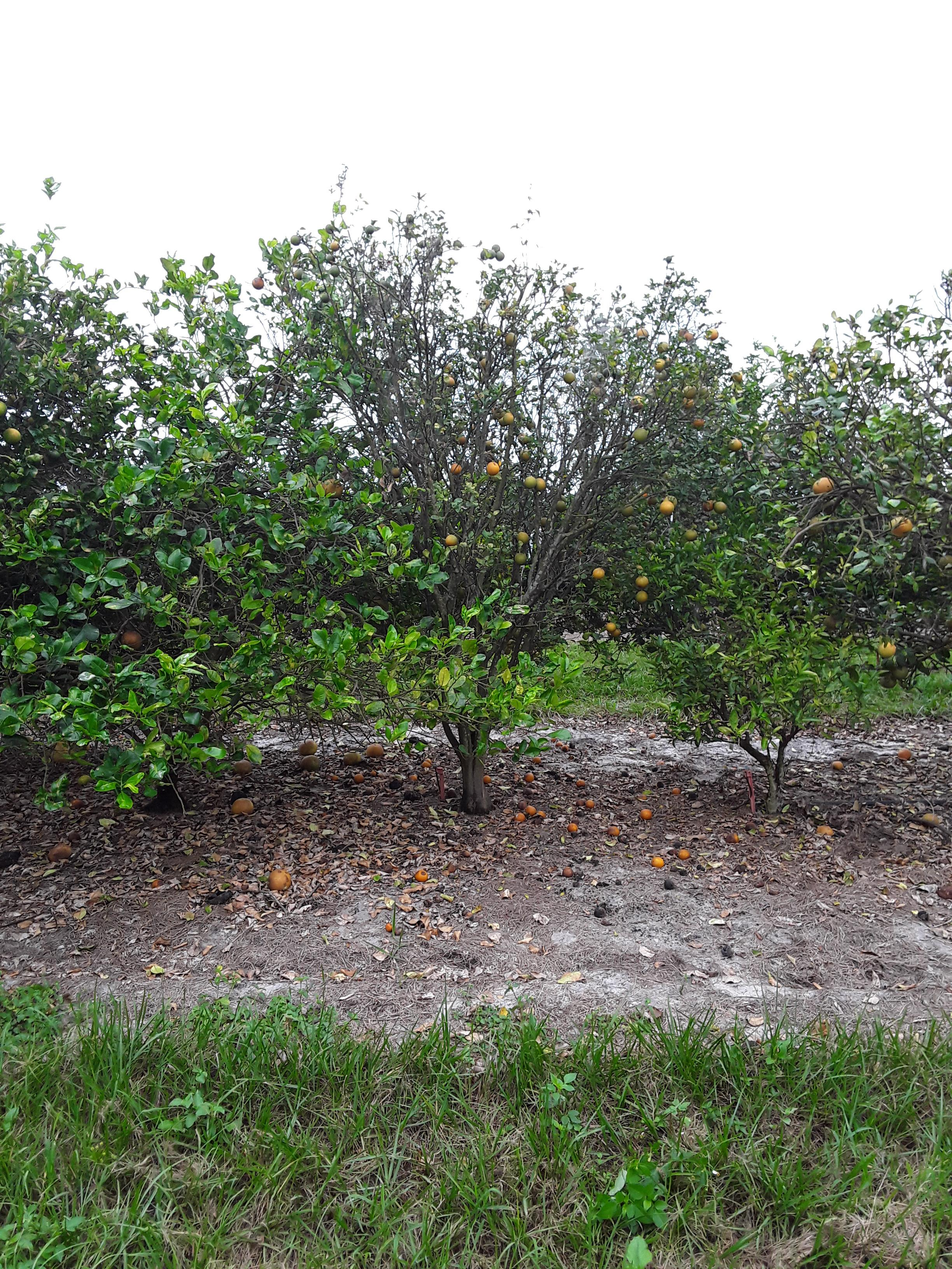fruit_on_ground: (887, 514, 915, 538), (117, 627, 144, 651), (322, 475, 344, 502), (811, 476, 837, 497), (876, 638, 899, 658), (878, 672, 898, 690), (890, 662, 909, 680), (632, 427, 649, 444), (657, 500, 674, 516), (726, 437, 743, 453), (484, 460, 502, 475), (443, 533, 459, 548), (522, 475, 538, 490), (504, 332, 520, 347), (590, 566, 606, 581), (691, 417, 707, 432), (702, 496, 717, 512), (655, 339, 671, 354), (534, 476, 548, 493), (681, 385, 698, 399), (288, 232, 303, 247), (448, 461, 463, 476), (442, 374, 457, 389), (634, 589, 648, 605), (703, 327, 719, 341), (651, 358, 667, 372), (251, 276, 265, 291), (290, 267, 305, 281), (562, 370, 576, 385), (621, 503, 636, 517), (634, 326, 648, 341), (713, 500, 728, 514), (517, 449, 531, 464), (634, 575, 650, 588), (683, 529, 699, 542), (680, 396, 696, 409), (318, 290, 332, 304), (516, 530, 530, 544), (554, 500, 569, 513), (514, 551, 527, 565), (495, 413, 508, 426), (388, 467, 402, 479), (456, 433, 468, 446), (503, 411, 515, 424), (604, 621, 617, 633), (682, 332, 695, 344), (329, 265, 341, 277), (323, 252, 336, 263), (325, 223, 336, 235), (364, 224, 375, 236), (329, 240, 340, 252), (491, 243, 502, 254), (611, 627, 622, 638), (485, 250, 496, 260), (495, 251, 506, 261)
fruit_on_tree: (268, 868, 294, 892), (46, 843, 72, 863), (230, 796, 254, 816), (229, 757, 253, 777), (299, 755, 322, 775), (297, 737, 318, 757), (342, 751, 364, 766), (365, 741, 384, 758), (814, 822, 834, 837), (77, 773, 93, 787), (724, 831, 740, 845), (896, 748, 913, 761), (560, 865, 575, 879), (650, 856, 665, 869), (415, 869, 429, 882), (566, 822, 580, 835), (677, 848, 691, 861), (640, 807, 653, 821), (606, 824, 621, 836), (830, 760, 845, 771), (523, 771, 535, 783), (354, 772, 365, 785), (513, 811, 526, 822), (524, 804, 537, 815), (408, 773, 419, 783), (584, 799, 595, 809), (420, 759, 430, 769), (531, 755, 542, 764), (575, 779, 586, 788), (482, 774, 491, 784), (671, 787, 682, 795), (560, 744, 569, 753), (647, 731, 656, 740), (536, 811, 546, 819), (576, 799, 585, 807), (550, 737, 560, 744), (330, 774, 338, 782), (555, 741, 564, 748), (368, 770, 376, 776)
